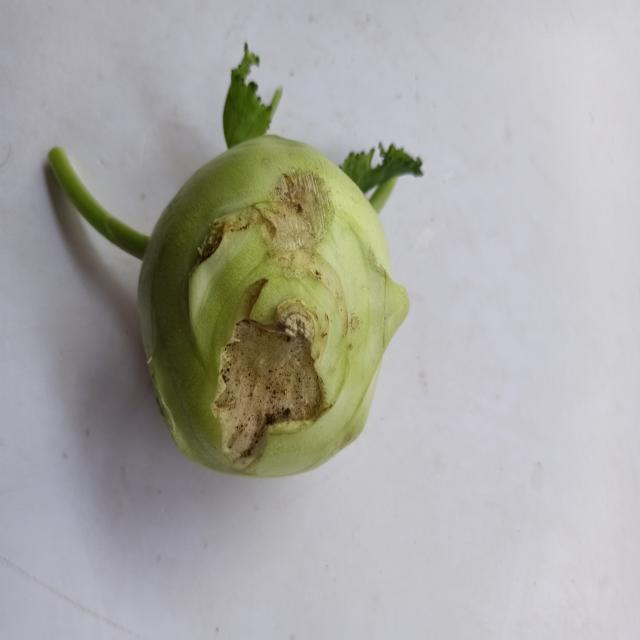Turnip: (48, 27, 460, 490)
